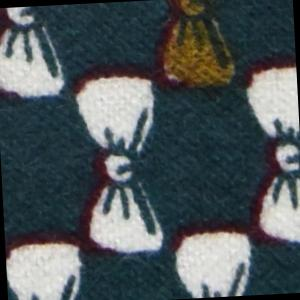Oil Stain: (156, 1, 238, 96)
